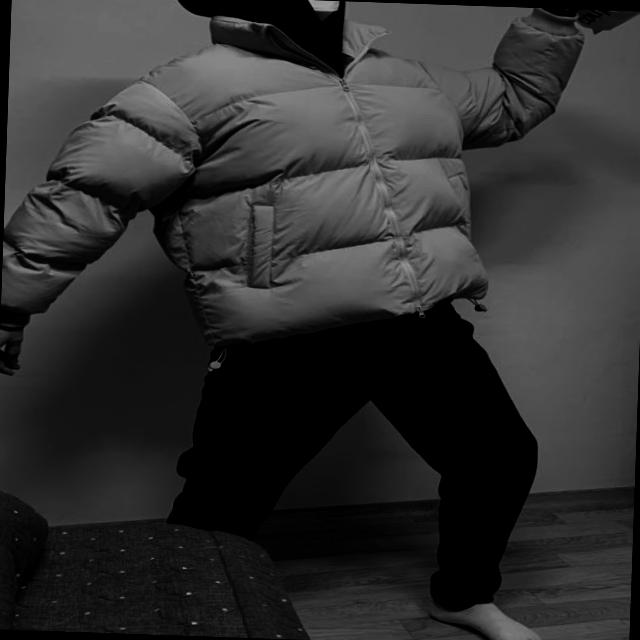padding: (0, 0, 586, 359)
trainingpants: (164, 286, 544, 612)
